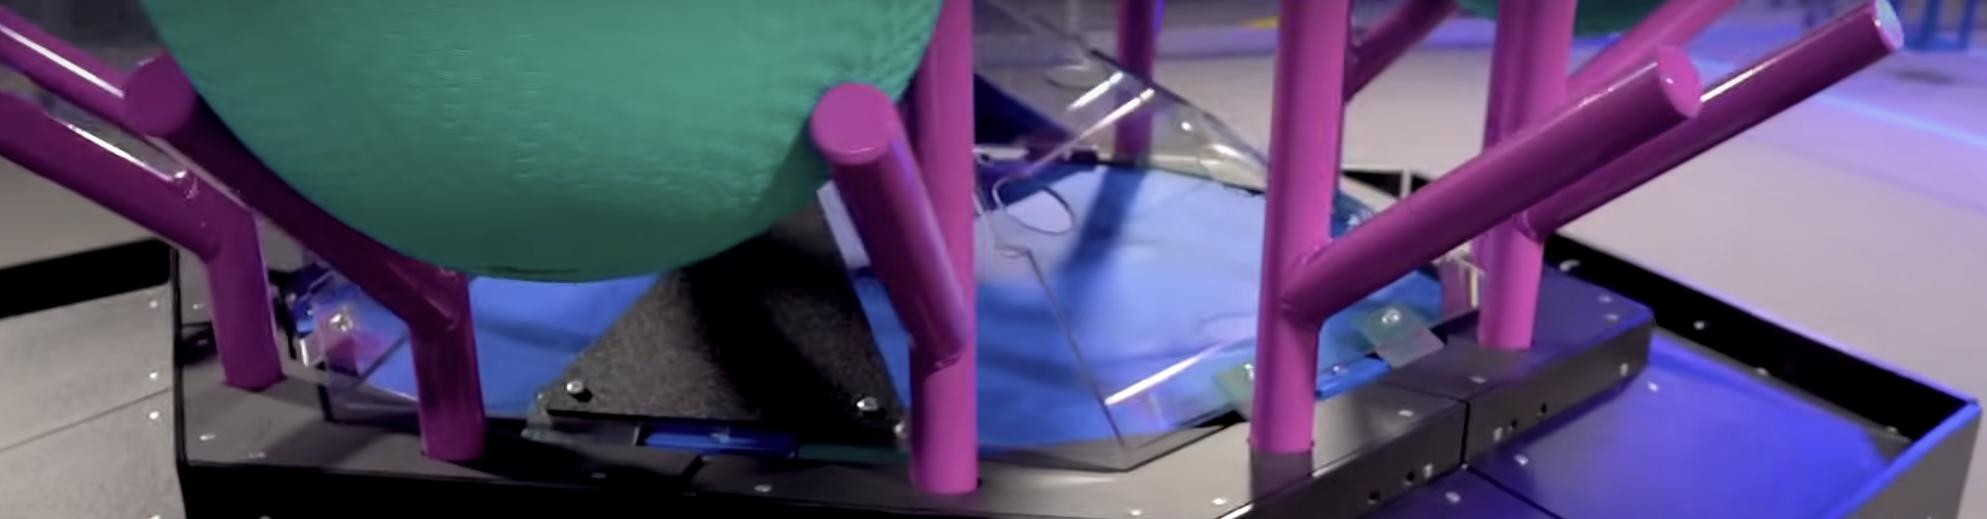algae: (132, 0, 947, 284), (1457, 0, 1664, 35)
